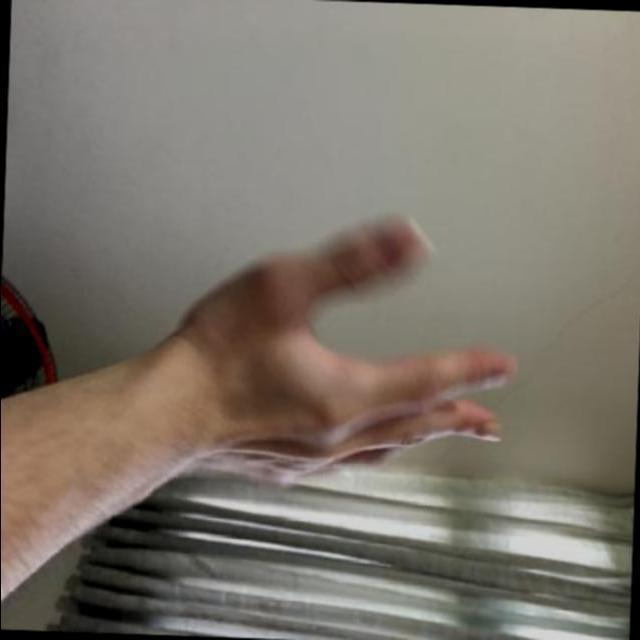hand: (148, 195, 523, 527)
